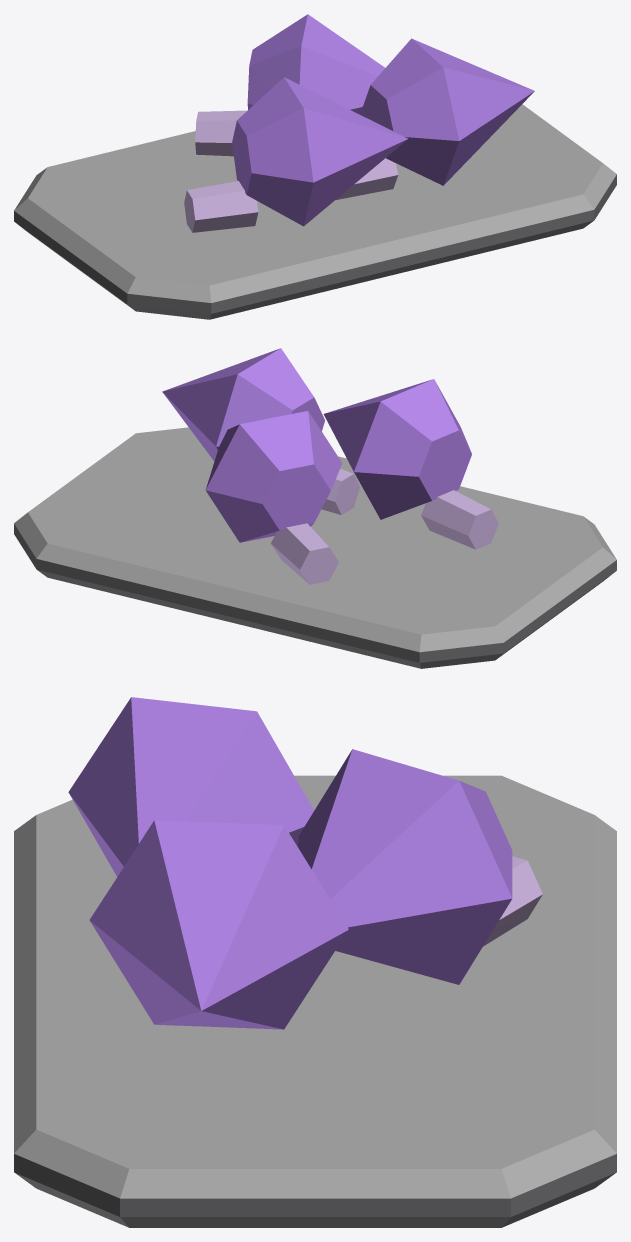
File: item_produce_psilocap_b.obj
The picture shows the model from 3 angles, top to bottom: view 1: azimuth 30°, elevation 25°; view 2: azimuth 150°, elevation 25°; view 3: azimuth 270°, elevation 25°; orthographic projection. The views are drawn at different scales.
Bounding box in the file's own units: 0.6812 × 0.2153 × 0.4212.
